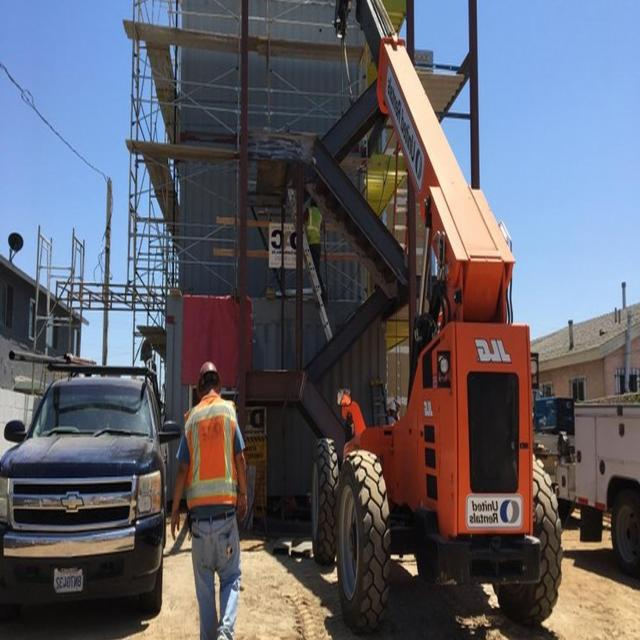Reflective-Jacket: (182, 397, 242, 524), (306, 203, 325, 246)
Safety-Helmet: (194, 356, 222, 387)
